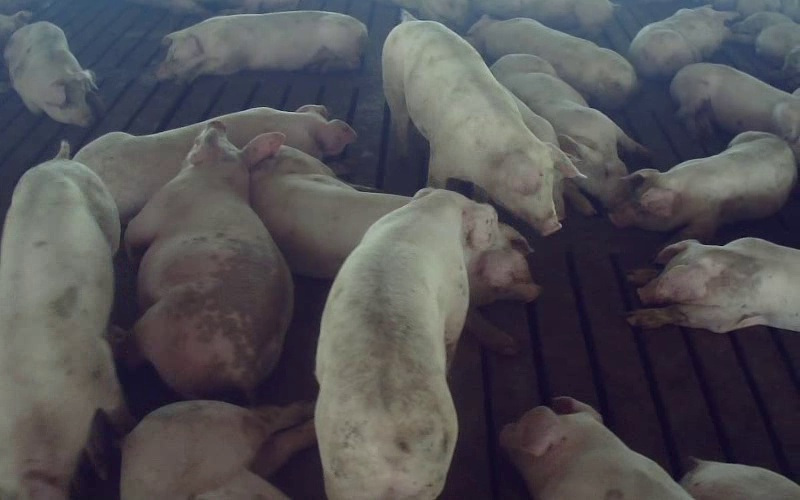pig: (315, 190, 497, 499), (128, 123, 292, 396), (2, 143, 122, 499), (383, 20, 575, 235), (491, 54, 647, 205), (609, 131, 796, 239), (628, 238, 799, 332), (468, 15, 637, 107), (157, 11, 367, 79), (670, 64, 799, 162), (4, 21, 95, 126), (629, 6, 737, 78)
